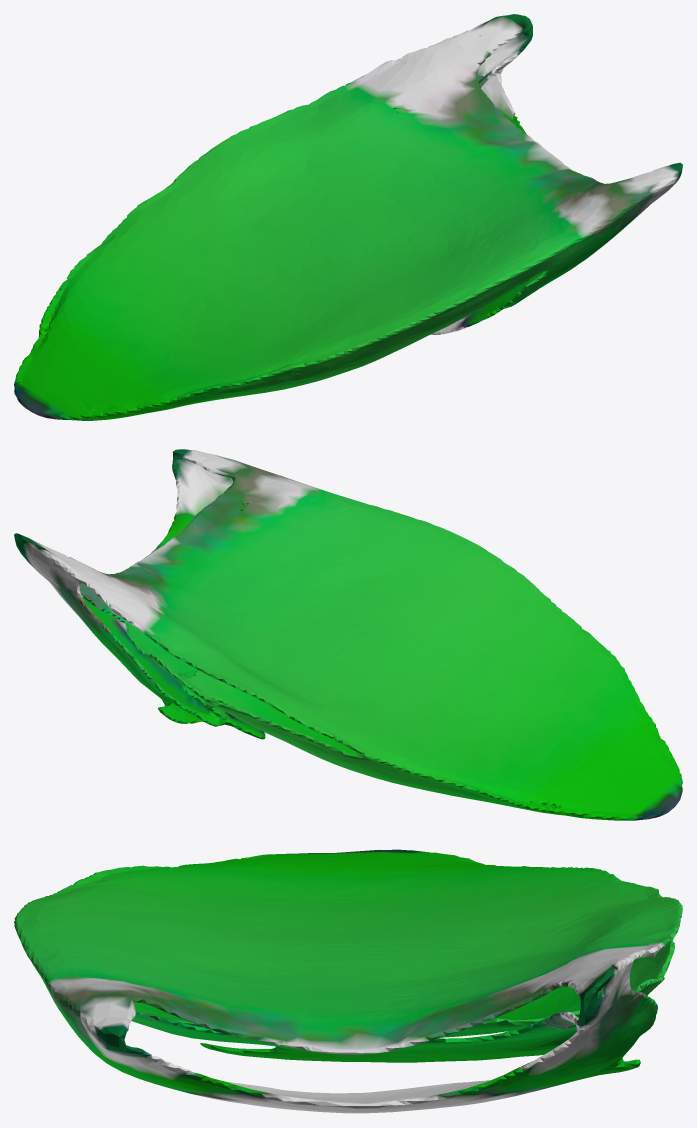
The model's file is dragon_green_scale.glb.
3 renders of one model, top to bottom at view 1: azimuth 30°, elevation 25°; view 2: azimuth 150°, elevation 25°; view 3: azimuth 270°, elevation 25°, orthographic. The views are drawn at different scales.
Visible parts, largest first — view 1: geometry_0; view 2: geometry_0; view 3: geometry_0.
Part boxes in pixels (box(x1,y1,x2,y2)): geometry_0: box(14, 14, 682, 420); geometry_0: box(14, 449, 682, 820); geometry_0: box(14, 849, 682, 1113).
Bounding box in the file's own units: 0.75 × 0.2523 × 0.494.
